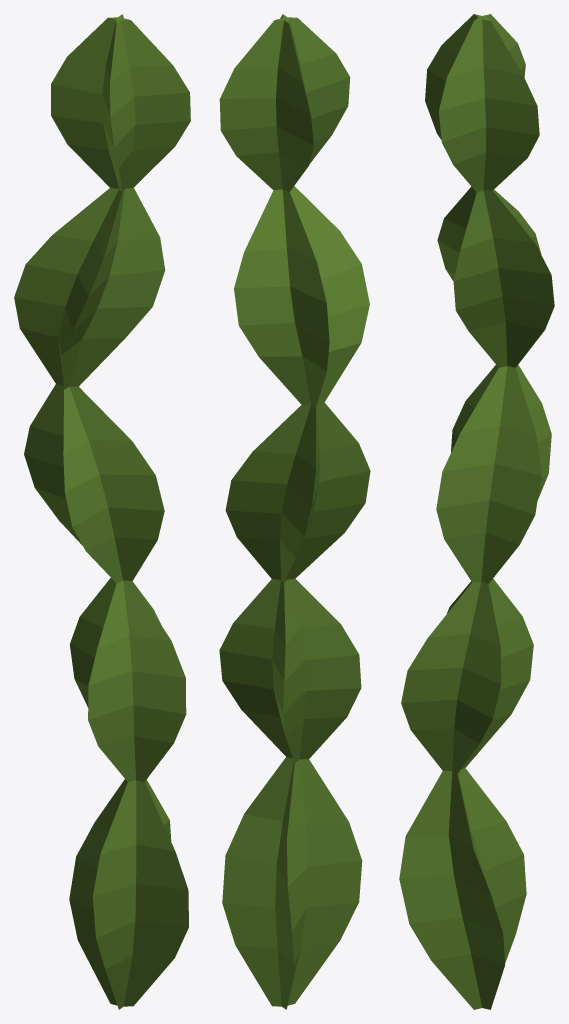
Rendered from Cactus_13.fbx.
The picture shows the model from 3 angles, left to right: view 1: azimuth 30°, elevation 25°; view 2: azimuth 150°, elevation 25°; view 3: azimuth 270°, elevation 25°; orthographic projection.
Visible parts, largest first — view 1: Cactus_13; view 2: Cactus_13; view 3: Cactus_13.
Boxes of the visible parts, bbox=[...] form: Cactus_13: bbox=[14, 14, 190, 1009]; Cactus_13: bbox=[219, 14, 370, 1009]; Cactus_13: bbox=[399, 14, 554, 1009].
Bounding box in the file's own units: 19.81 × 20.05 × 141.
